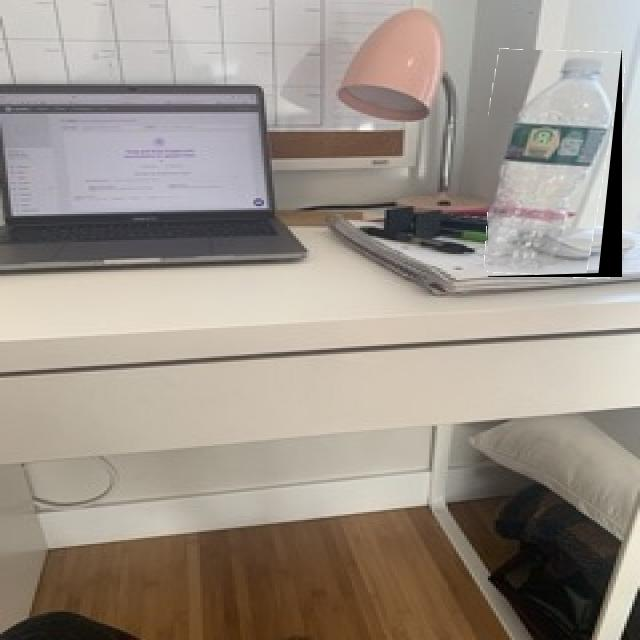water_bottle: (488, 50, 622, 277)
